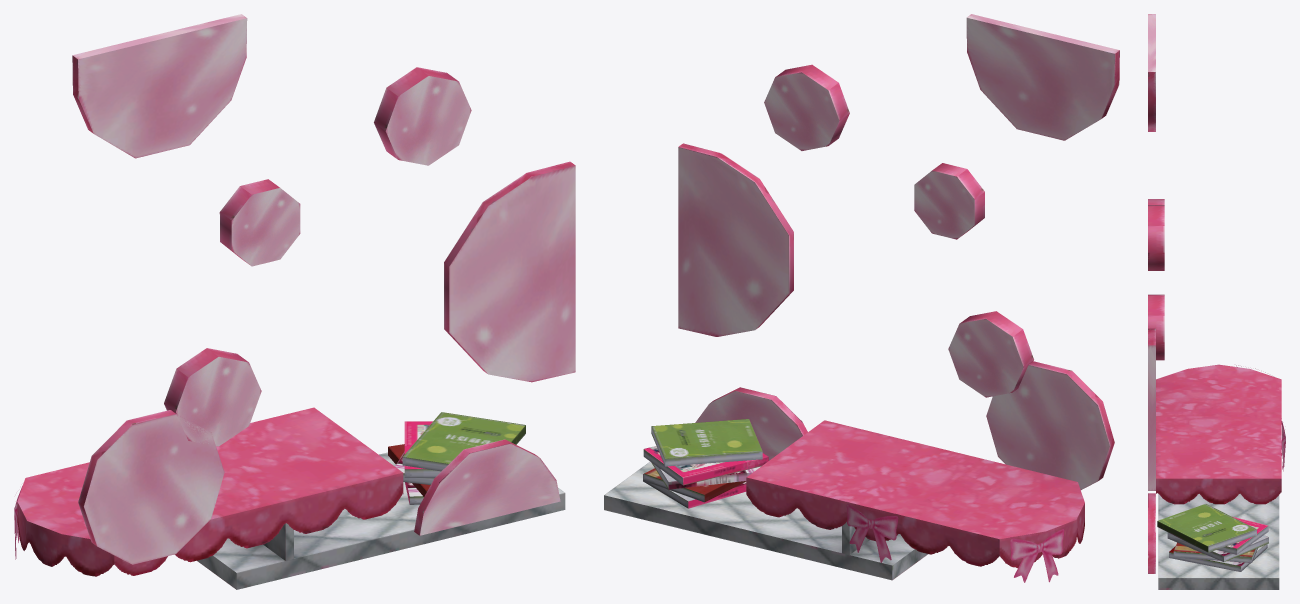
File: furni_0200029.FBX
3 renders of one model, left to right at view 1: azimuth 30°, elevation 25°; view 2: azimuth 150°, elevation 25°; view 3: azimuth 270°, elevation 25°, orthographic. The views are drawn at different scales.
Parts seen in each view (by area): view 1: furni_0200029; view 2: furni_0200029; view 3: furni_0200029.
Boxes of the visible parts, x1,y1,x2,y2 form: furni_0200029: [14, 14, 575, 589]; furni_0200029: [604, 14, 1119, 582]; furni_0200029: [1148, 14, 1285, 589].
Bounding box in the file's own units: 241 × 267 × 82.18.
